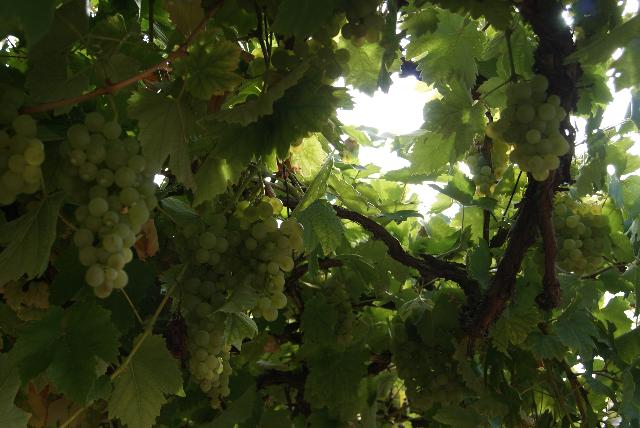grapes: (59, 111, 160, 299), (486, 75, 569, 181), (242, 198, 304, 309), (181, 278, 231, 409), (0, 90, 45, 205), (552, 202, 609, 275), (184, 214, 229, 264)
